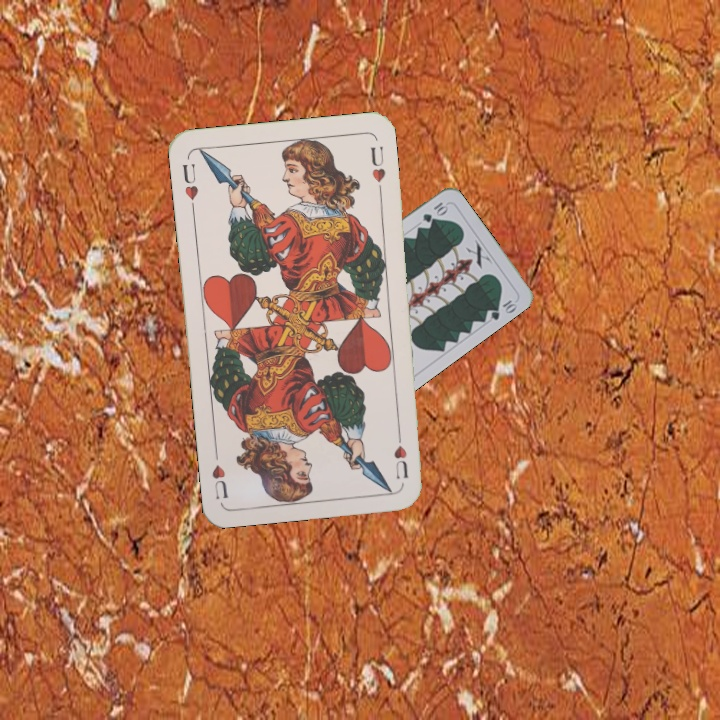G10: (419, 198, 450, 225)
HU: (178, 159, 201, 213), (390, 425, 411, 482)
